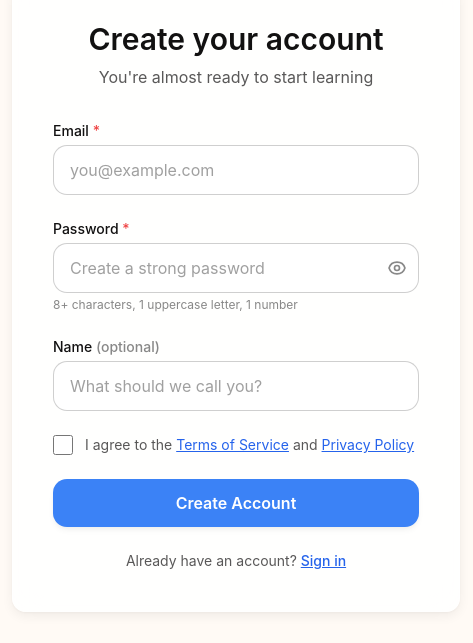
Scenario: AccountCreationPage › form validation › shows error for invalid email format
Type "invalid-email" into the field labelled "Email *" at (236, 170), box x1=53 y1=145 x2=419 y2=195
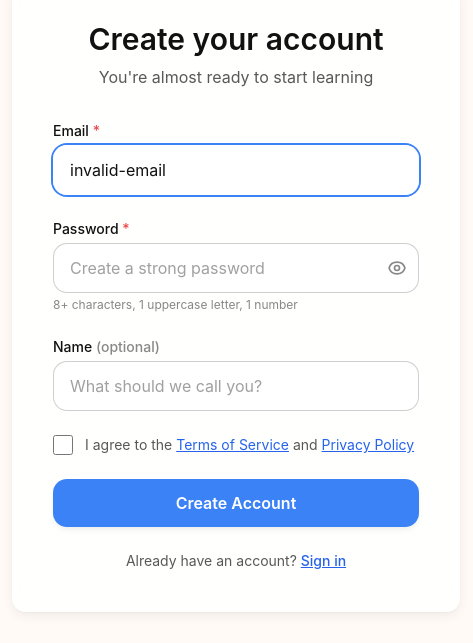
Press Tab
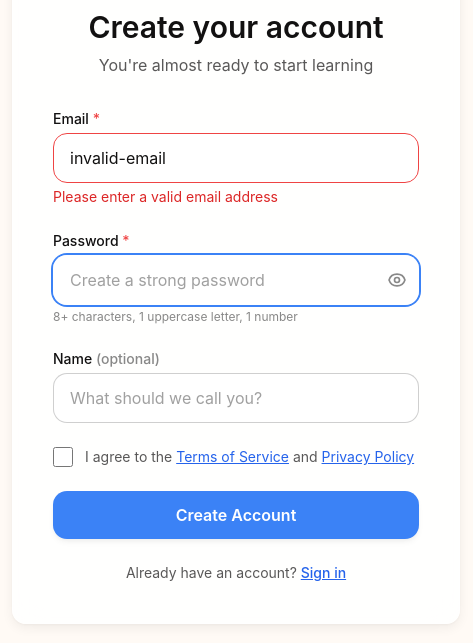
Now the text "Please enter a valid email address" is shown, box x1=53 y1=188 x2=278 y2=205
